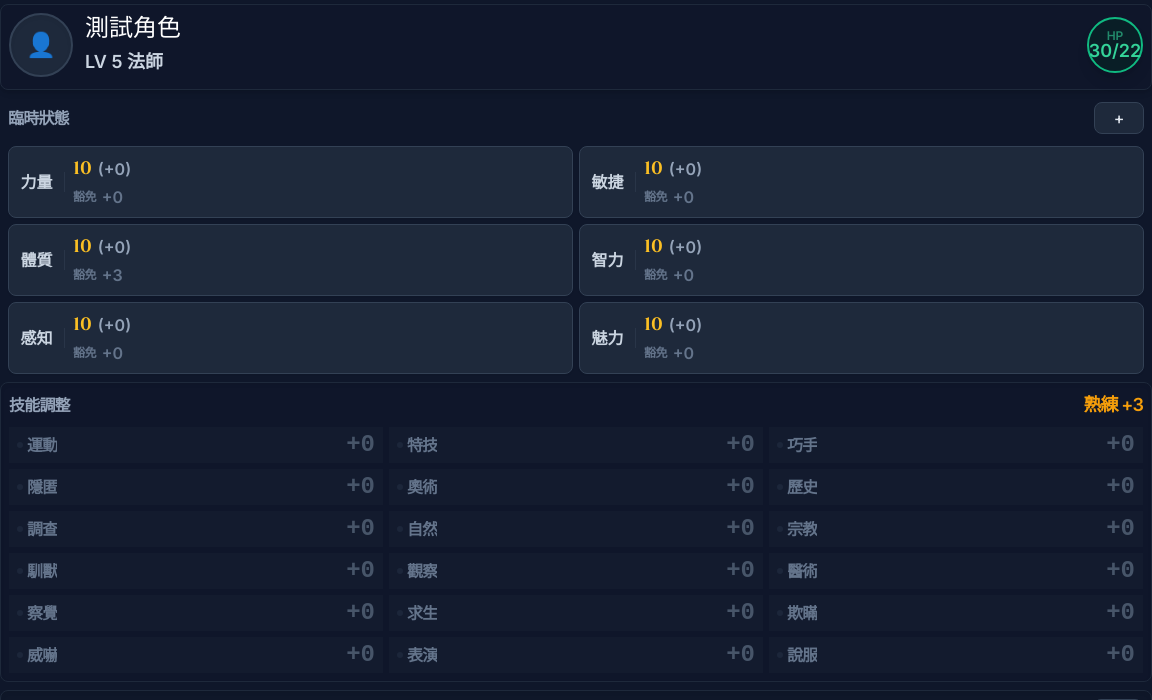
Test: 豁免詳細彈窗 - 能力/物品賦予的熟練 › 「無/熟練」切換維持顯示「無」（不因來源賦予熟練就誤存成角色自己的熟練）
Click the text "體質".
click(36, 260)  # box [20,250,52,270]
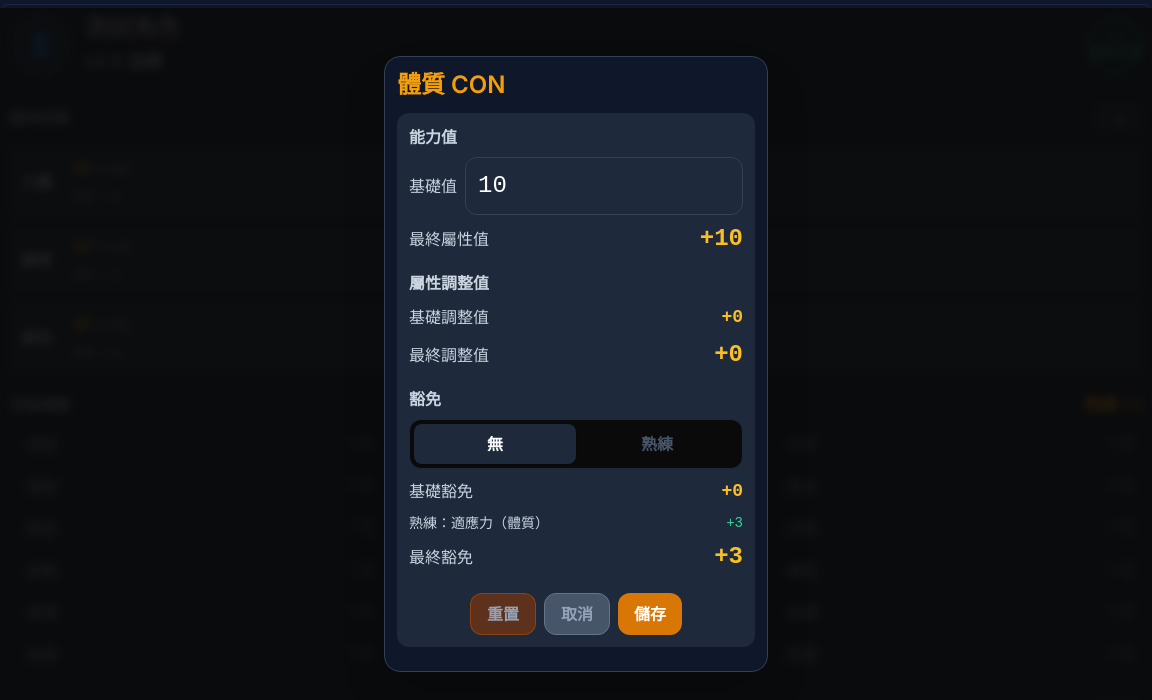
expect the text "最終豁免" is shown: met, box [409,545,473,569]
